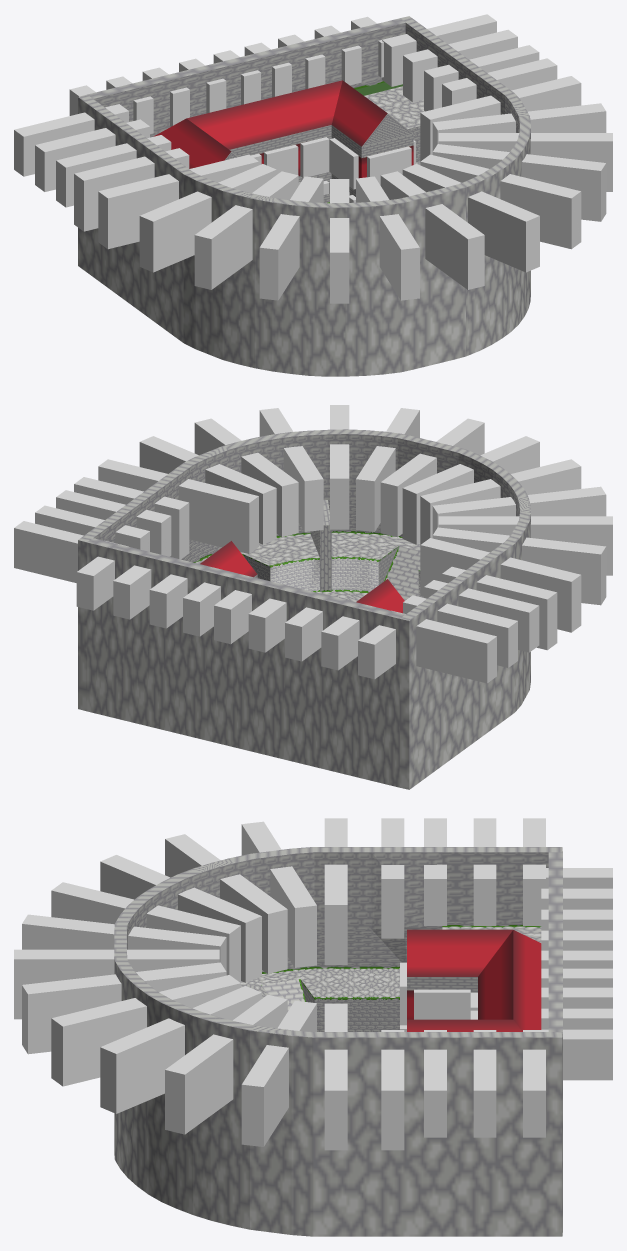
File: theater.glb
The picture shows the model from 3 angles, top to bottom: view 1: azimuth 30°, elevation 25°; view 2: azimuth 150°, elevation 25°; view 3: azimuth 270°, elevation 25°; orthographic projection. The views are drawn at different scales.
Parts seen in each view (by area): view 1: WindowCutouts, Temple; view 2: WindowCutouts, Temple; view 3: Temple, WindowCutouts.
Part boxes in pixels (<box>): WindowCutouts: <box>14,14,612,303</box>; Temple: <box>78,16,530,376</box>; WindowCutouts: <box>14,405,612,683</box>; Temple: <box>78,429,530,789</box>; Temple: <box>114,847,562,1236</box>; WindowCutouts: <box>14,818,612,1150</box>.
Size of the model in its own units: 9.09 by 3.11 by 8.45.
1 material, 1 textured.
